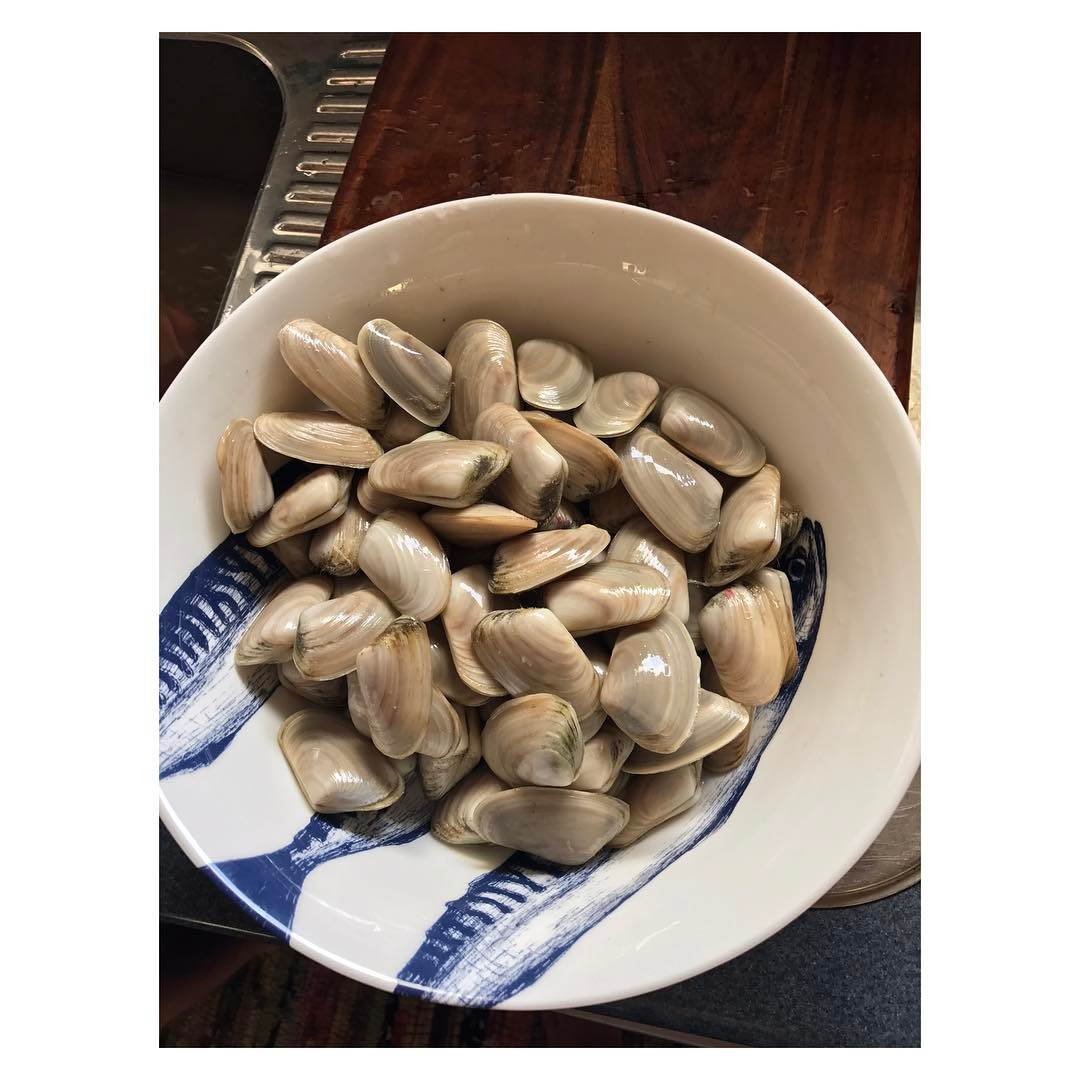tuatua: (471, 599, 600, 741), (463, 784, 635, 874), (601, 609, 705, 757), (612, 422, 724, 547), (277, 705, 402, 815), (269, 313, 387, 429), (364, 434, 517, 512), (697, 582, 790, 708), (355, 312, 457, 426), (355, 615, 432, 761), (656, 384, 771, 481), (702, 461, 791, 580), (480, 694, 588, 792), (474, 399, 562, 518), (295, 587, 397, 687), (528, 406, 625, 510), (356, 509, 447, 619), (439, 564, 511, 698), (549, 556, 669, 634), (253, 401, 377, 474), (243, 467, 355, 546), (481, 525, 607, 592), (235, 578, 324, 664), (447, 313, 514, 426), (514, 332, 595, 416), (571, 367, 659, 439), (218, 418, 276, 527)
